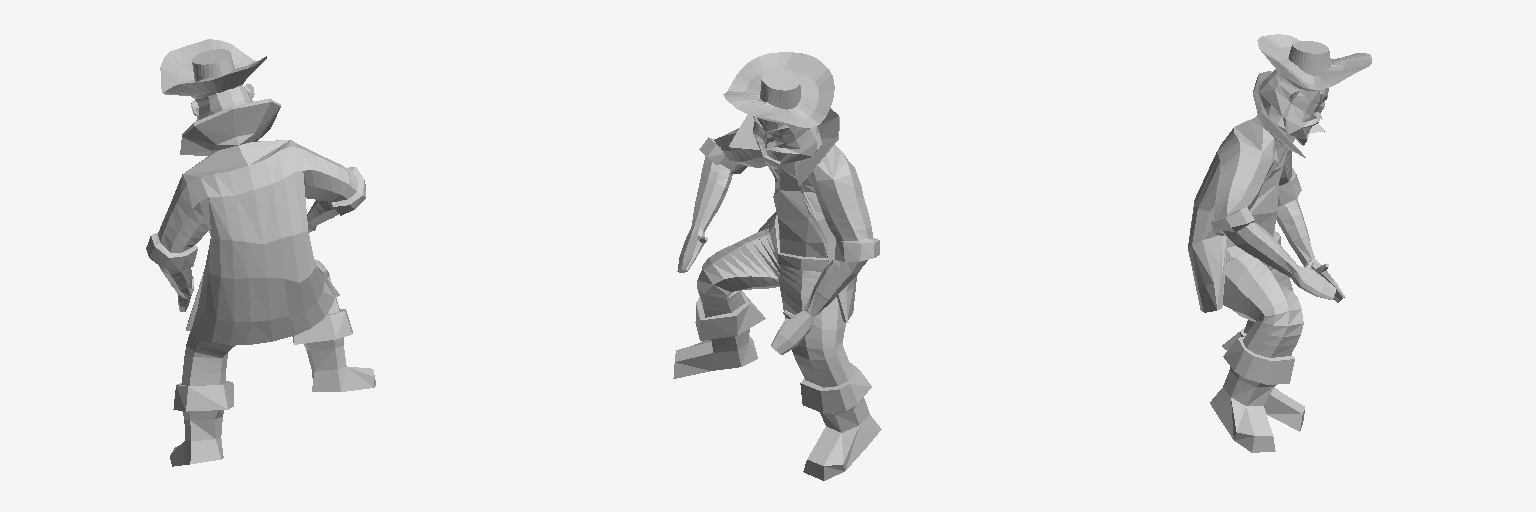
The model's file is pirata_000288.obj.
3 renders of one model, left to right at view 1: azimuth 30°, elevation 25°; view 2: azimuth 150°, elevation 25°; view 3: azimuth 270°, elevation 25°, orthographic.
Visible parts, largest first — view 1: Pirata_PirataH; view 2: Pirata_PirataH; view 3: Pirata_PirataH.
Part boxes in pixels (bbox=[...]): Pirata_PirataH: bbox=[146, 39, 375, 466]; Pirata_PirataH: bbox=[673, 52, 881, 480]; Pirata_PirataH: bbox=[1188, 34, 1371, 452].
Size of the model in its own units: 5.32 by 9.56 by 3.99.